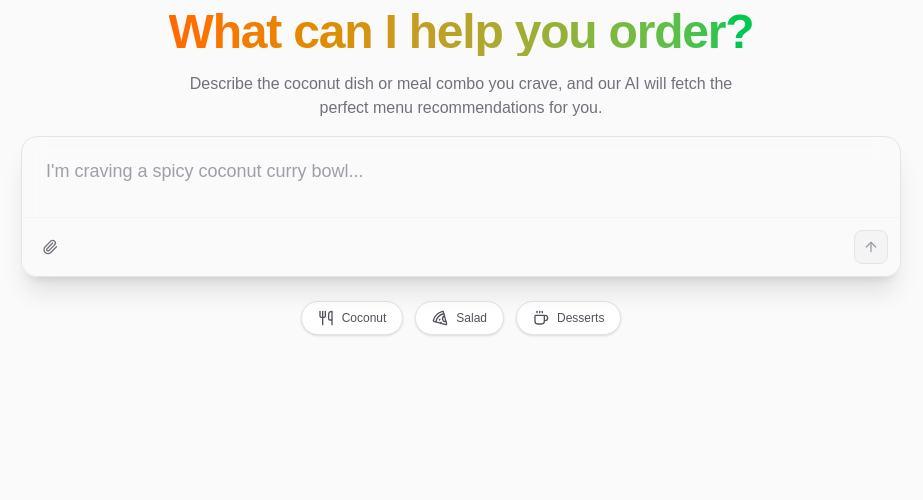
VercelV0Chat › submits a query, shows the AI response, and reports item ids
Type "something spicy" into the text box with placeholder "I'm craving a spicy coconut curry bowl..." at (461, 177), box [22,137,900,217]
Then press Enter
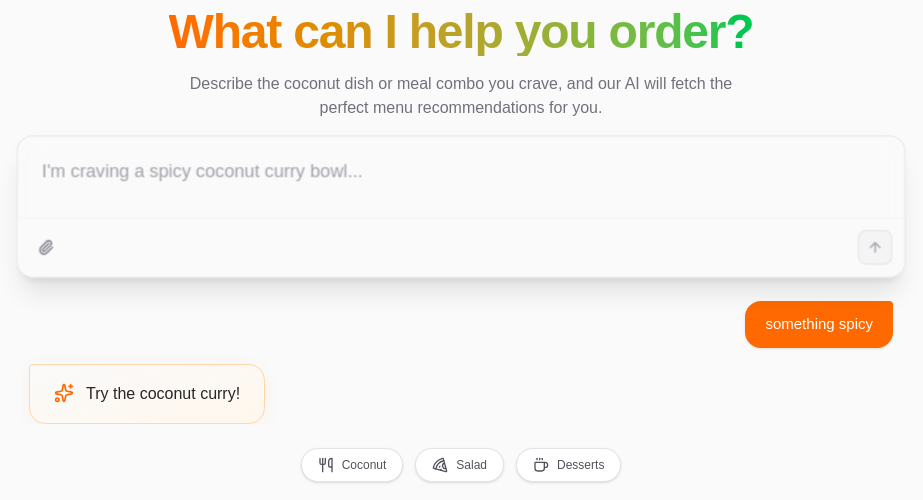
Expected: the text "Try the coconut curry!" is shown, [86,380,240,406]
